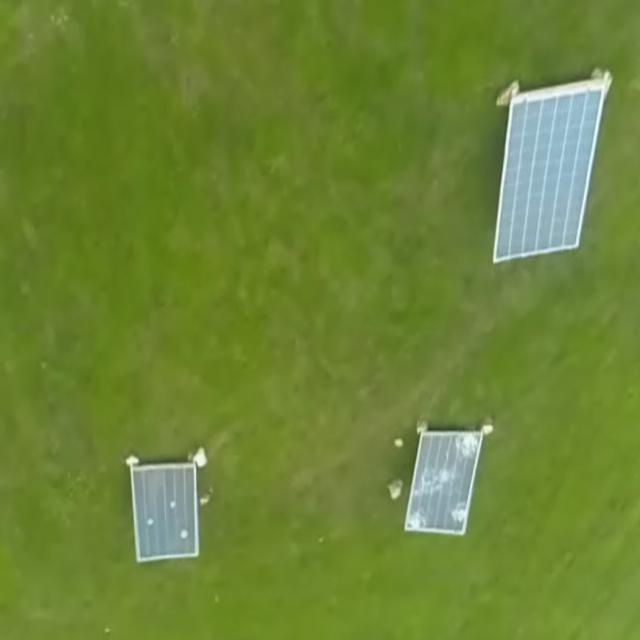Bird-drop: (166, 497, 178, 511), (144, 515, 157, 527), (179, 527, 189, 540)
Physical-damage: (453, 430, 482, 465), (417, 467, 448, 496), (407, 505, 429, 531), (452, 499, 466, 532)
